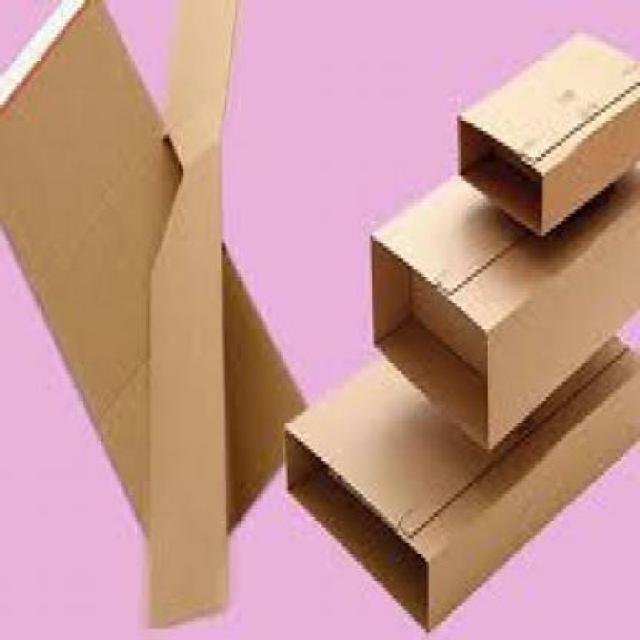cardboard: (3, 0, 314, 554), (287, 329, 638, 637), (372, 157, 638, 451), (146, 0, 237, 626), (458, 27, 638, 235)
